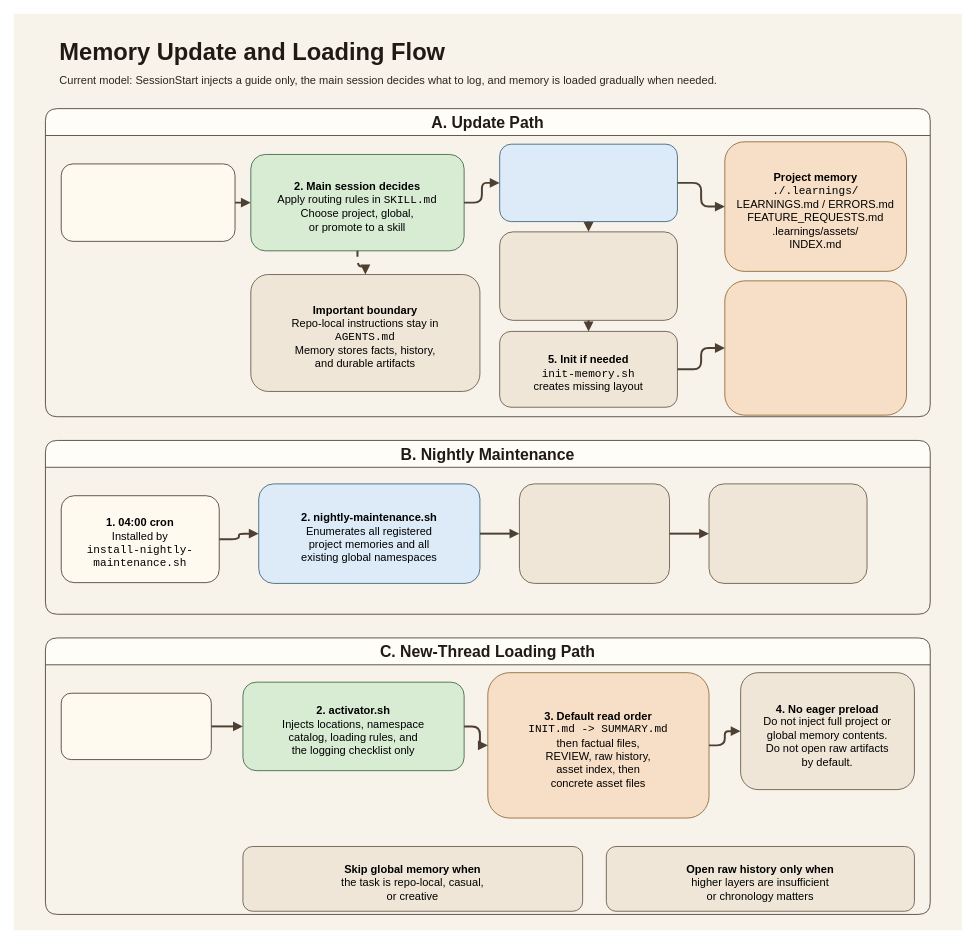
Image size: 975x943. Some labels were removed from this diagram. Each missing label, with the centre of its shape:
"1. New thread Codex fires SessionStart" goes at [135,726].
"1. Working turn User message, repo fact, failure pattern, or request" goes at [147,202].
"3. Log memory log-memory.sh writes structured entries" goes at [588,182].
"3. writeback writeback-memory.sh promotes recurring entries into SUMMARY.md" goes at [594,533].
"4. Index artifacts log-asset.sh writes the scope-specific asset index" goes at [588,275].
"4. organize organize-memory.sh refreshes REVIEW.md and SUMMARY_CANDIDATES.md" goes at [787,533].
"Global memory ~/global-memory/ namespaces/<name>/ .learnings/ assets/ INDEX.md" goes at [815,347].
